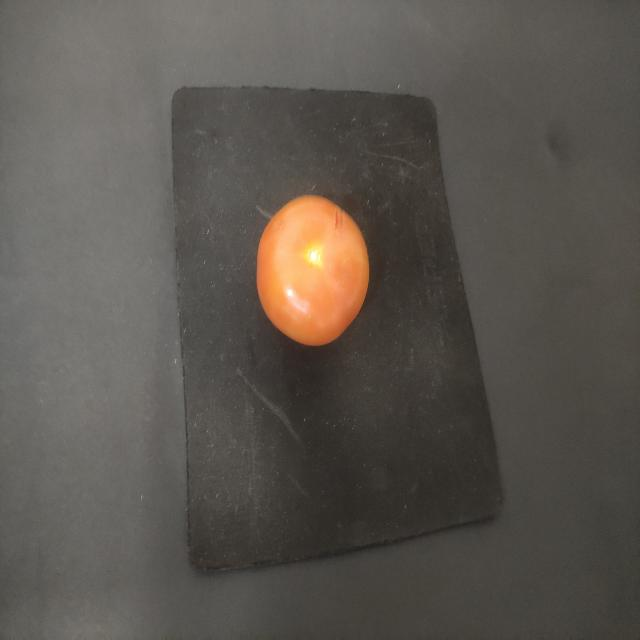sari: (254, 184, 384, 365)
